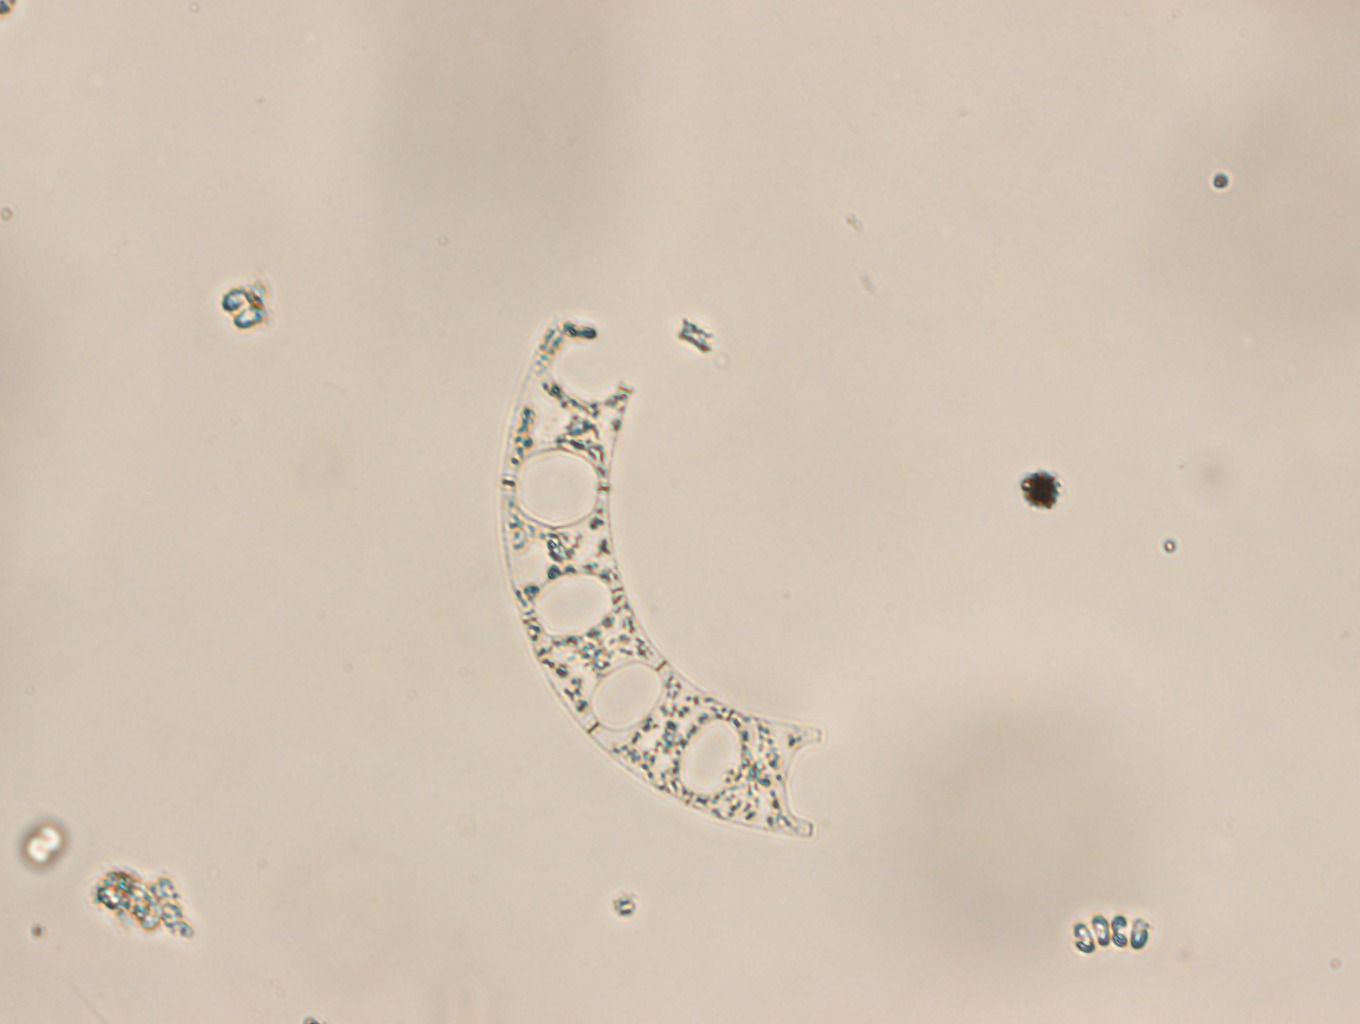eucampia: (500, 317, 824, 839)
